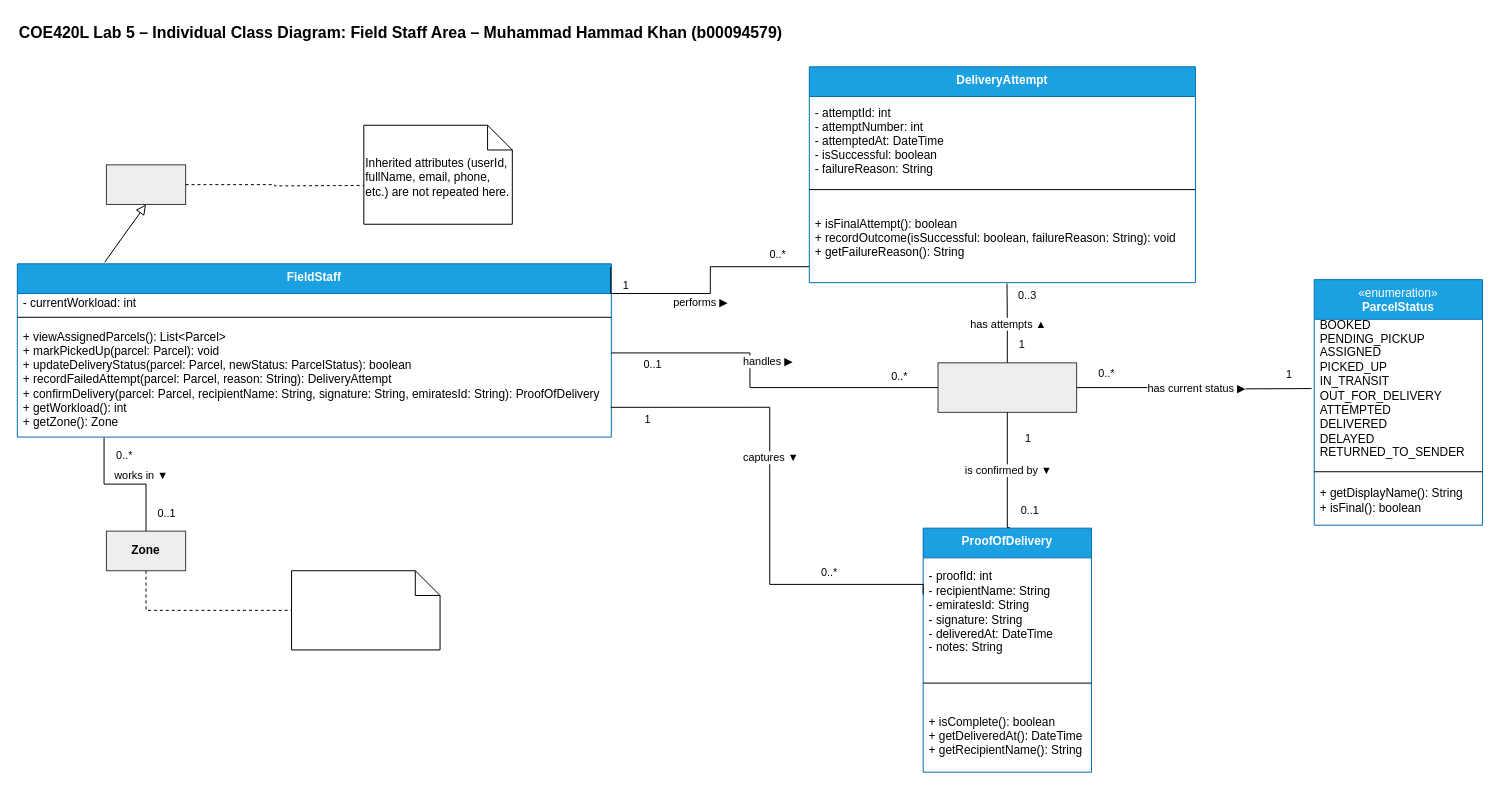
Some shapes in this 1500 by 789 pixel diagram are drawn without their labels. Here are the shapes that lost their labels. From the top down, the centre of each, then its label:
At point (145, 184): "User".
At point (1007, 387): "Parcel".
At point (365, 610): "This is never set automatically, always by admin".
